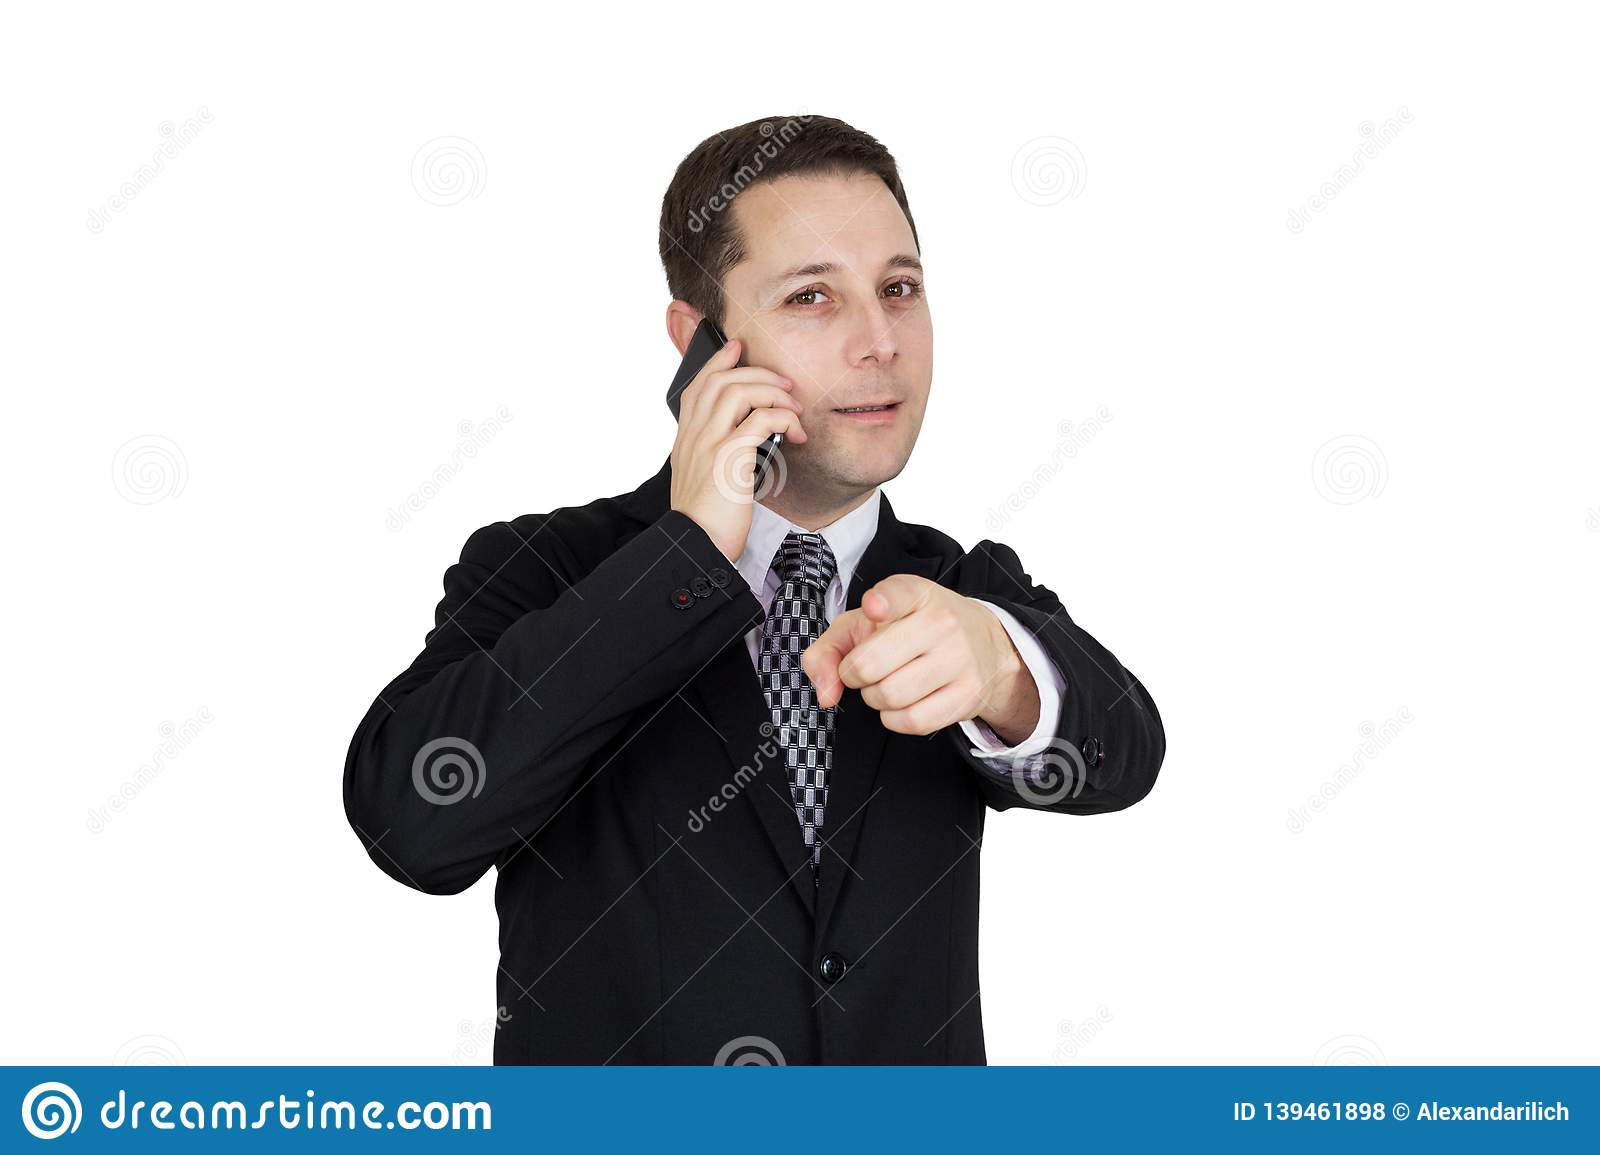phone: (665, 322, 785, 496)
talk: (662, 236, 935, 566)
